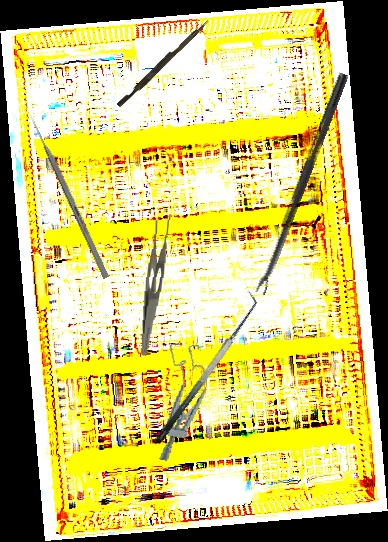Dressing Forceps: (140, 212, 173, 357)
Pusher: (27, 111, 110, 280), (116, 16, 210, 110)
Spatula Surgical: (142, 289, 267, 446)
Speculum: (150, 339, 214, 466)
Surgical Spoon: (254, 71, 349, 296)
